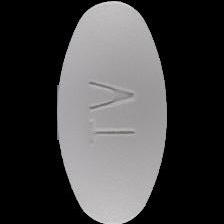42291-513: (0, 0, 224, 224)
